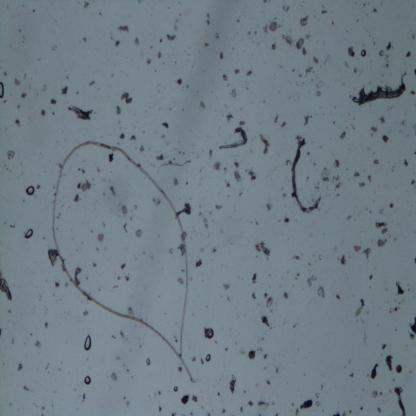Air bubble: (83, 330, 92, 352), (24, 227, 34, 240), (26, 184, 35, 197), (0, 82, 5, 100), (84, 376, 92, 386), (205, 352, 212, 363), (360, 49, 367, 59), (172, 385, 178, 393)
Background material: (321, 166, 342, 193), (67, 103, 93, 122), (0, 274, 13, 302), (254, 238, 272, 258), (259, 131, 271, 156), (178, 198, 194, 216), (114, 200, 129, 216), (77, 178, 92, 194), (46, 249, 58, 268), (374, 221, 390, 235), (228, 372, 237, 395), (244, 165, 256, 182), (356, 298, 366, 318), (264, 20, 278, 34), (298, 398, 314, 410), (314, 81, 326, 97), (394, 280, 406, 296), (120, 92, 133, 106), (384, 354, 394, 372), (74, 265, 82, 287), (409, 314, 416, 339), (179, 393, 191, 407), (5, 148, 17, 162), (369, 363, 379, 379), (203, 325, 214, 339), (150, 193, 161, 207), (201, 215, 211, 230), (233, 170, 242, 186), (261, 314, 271, 328), (284, 33, 294, 47), (204, 10, 212, 27), (331, 408, 348, 416), (248, 347, 257, 362), (166, 31, 177, 43), (117, 24, 130, 34), (134, 227, 144, 240), (362, 247, 372, 260), (295, 37, 305, 50), (302, 113, 311, 127), (347, 45, 356, 59), (95, 231, 106, 242), (305, 64, 316, 75), (154, 152, 165, 163), (160, 120, 170, 132), (380, 132, 390, 144), (300, 15, 310, 27), (339, 254, 347, 269), (316, 286, 326, 298), (34, 338, 44, 350), (256, 400, 271, 408), (198, 100, 208, 112), (307, 274, 316, 287), (60, 83, 69, 96), (363, 330, 369, 349), (221, 282, 232, 292), (394, 363, 403, 375), (370, 123, 379, 135), (332, 158, 341, 170), (282, 2, 290, 15), (206, 148, 214, 161), (178, 244, 186, 257), (377, 238, 388, 247), (173, 18, 182, 29), (388, 306, 399, 315), (226, 111, 234, 123), (384, 53, 390, 69), (122, 223, 130, 235), (266, 200, 274, 212), (338, 129, 346, 141), (14, 76, 22, 88), (221, 71, 229, 83), (133, 36, 141, 48), (266, 296, 273, 309), (218, 51, 225, 64), (314, 180, 321, 193), (291, 253, 301, 262), (352, 243, 362, 252), (174, 78, 184, 87), (376, 48, 385, 58), (252, 271, 258, 286), (170, 175, 178, 186), (366, 173, 374, 184), (212, 159, 220, 170), (14, 117, 22, 128), (72, 193, 80, 204), (115, 106, 122, 118), (385, 40, 392, 52), (79, 167, 88, 176), (20, 91, 29, 100), (191, 394, 199, 404), (82, 0, 90, 10), (130, 132, 138, 142), (380, 342, 388, 352), (177, 276, 185, 286), (145, 56, 153, 66), (38, 108, 46, 118), (126, 306, 134, 316), (244, 69, 254, 77), (371, 389, 378, 400), (273, 113, 280, 124), (50, 96, 57, 107), (112, 372, 119, 383), (109, 186, 116, 197), (271, 40, 278, 51), (119, 329, 126, 340), (156, 50, 163, 61), (108, 151, 114, 163), (404, 50, 413, 58), (236, 404, 244, 413), (215, 203, 224, 211), (232, 87, 238, 99), (54, 280, 62, 289), (113, 39, 121, 48), (322, 3, 328, 15), (44, 359, 50, 371), (195, 258, 202, 268), (301, 46, 308, 56), (283, 158, 293, 165), (353, 169, 360, 179), (238, 120, 248, 127), (280, 118, 287, 128), (145, 356, 151, 367), (120, 260, 126, 271), (358, 180, 366, 188), (402, 160, 410, 168), (51, 44, 59, 52), (232, 160, 240, 168), (138, 145, 146, 153), (21, 384, 29, 392), (265, 379, 272, 388), (379, 116, 386, 125), (63, 280, 70, 289), (82, 391, 88, 401), (352, 64, 358, 74), (388, 201, 394, 211), (10, 336, 16, 346), (371, 6, 378, 14), (253, 28, 260, 36), (114, 354, 121, 362), (88, 80, 96, 87), (132, 203, 139, 211), (372, 159, 380, 166), (283, 216, 290, 224), (305, 33, 312, 41), (349, 371, 356, 379), (15, 102, 22, 110), (294, 272, 301, 280), (56, 212, 63, 220), (408, 89, 416, 96), (314, 54, 319, 65), (344, 58, 349, 69), (156, 404, 162, 413), (291, 322, 300, 328), (283, 291, 289, 300), (376, 405, 382, 414), (314, 401, 321, 408), (219, 406, 226, 413), (274, 367, 280, 375), (168, 246, 174, 254), (204, 40, 210, 48), (346, 406, 352, 414), (44, 322, 50, 330), (118, 133, 126, 139), (18, 365, 24, 373), (214, 32, 220, 40), (335, 292, 341, 300), (95, 244, 100, 253), (251, 291, 256, 300), (295, 407, 300, 416), (262, 353, 269, 359), (245, 30, 252, 36), (22, 73, 28, 80), (347, 214, 353, 221), (2, 164, 8, 171), (83, 310, 90, 316), (278, 61, 282, 71), (177, 366, 182, 374), (235, 66, 240, 74), (51, 109, 56, 117), (125, 274, 130, 282), (173, 334, 178, 342), (411, 32, 416, 40), (331, 18, 335, 27), (159, 36, 163, 45), (100, 222, 106, 228), (2, 70, 8, 76), (314, 392, 320, 398), (223, 347, 229, 353), (348, 356, 352, 365), (358, 404, 364, 410), (9, 223, 15, 229), (199, 405, 206, 410), (170, 411, 177, 416), (110, 72, 115, 79), (239, 191, 244, 198), (248, 400, 253, 407), (31, 8, 36, 15), (412, 178, 416, 186), (412, 256, 416, 264), (43, 84, 47, 92), (370, 274, 374, 282), (213, 246, 217, 254), (124, 366, 129, 372), (96, 166, 101, 172), (312, 160, 317, 166), (110, 335, 116, 340), (216, 391, 221, 397), (187, 411, 193, 416), (40, 404, 46, 409), (8, 308, 13, 314), (91, 263, 98, 267), (161, 133, 165, 140), (111, 284, 118, 288), (226, 181, 230, 188), (118, 274, 122, 281), (320, 254, 324, 261), (223, 167, 227, 174), (186, 83, 190, 90), (320, 384, 324, 391), (263, 291, 267, 298), (263, 0, 272, 3), (408, 283, 411, 292), (236, 18, 241, 23), (298, 73, 303, 78), (185, 180, 189, 186), (258, 347, 262, 353), (205, 412, 211, 416), (364, 2, 368, 8), (200, 358, 204, 364), (158, 390, 162, 396), (0, 329, 3, 337), (372, 40, 376, 46), (308, 262, 312, 268), (38, 184, 42, 190), (369, 208, 373, 214), (83, 36, 87, 42), (413, 68, 416, 75), (306, 151, 310, 156), (100, 12, 104, 17), (75, 90, 79, 95), (254, 220, 258, 225), (169, 159, 173, 164), (64, 74, 68, 79), (137, 0, 143, 3), (356, 18, 359, 24), (150, 44, 153, 50), (123, 396, 127, 400), (127, 402, 131, 406), (192, 358, 196, 362), (290, 403, 294, 407), (394, 328, 398, 332), (346, 29, 349, 34), (257, 413, 262, 416), (181, 107, 184, 112), (130, 216, 133, 221), (19, 27, 21, 34), (284, 194, 287, 198), (293, 67, 295, 72), (244, 390, 247, 393), (275, 413, 278, 416), (41, 413, 44, 416)
Cellulose filter fibre: (288, 137, 322, 213), (351, 72, 409, 106), (218, 126, 248, 152), (393, 384, 408, 416), (158, 160, 192, 171)
Microfibre: (50, 138, 197, 386)
